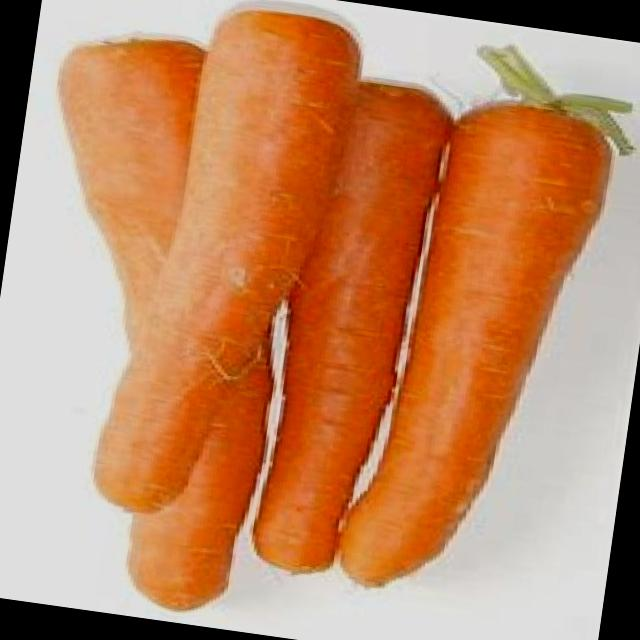carrot: (341, 97, 625, 593), (95, 12, 366, 504), (251, 76, 455, 564)
